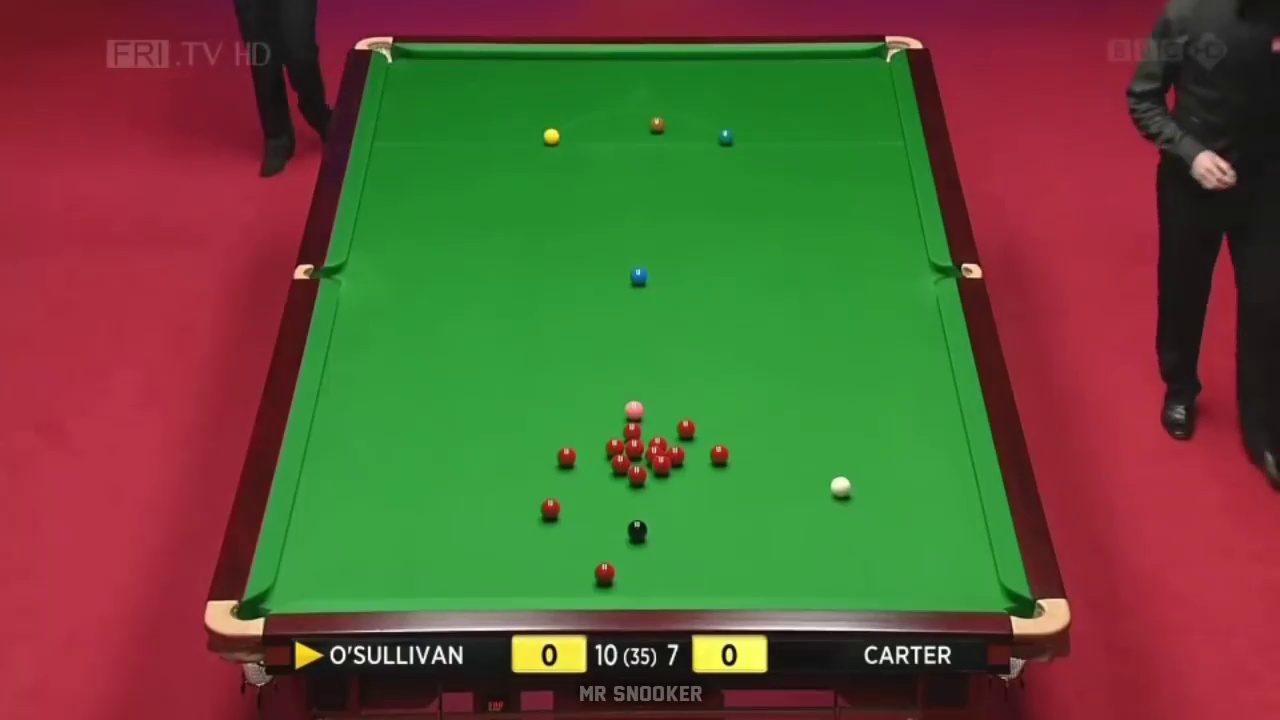ball: (828, 475, 853, 500), (593, 561, 617, 587), (540, 497, 564, 520), (626, 519, 648, 543), (558, 446, 580, 468), (708, 443, 732, 462), (623, 398, 643, 420), (675, 421, 697, 440), (627, 464, 647, 482), (541, 126, 563, 142), (653, 454, 668, 475), (649, 116, 666, 134), (630, 268, 647, 286), (717, 128, 732, 144)
